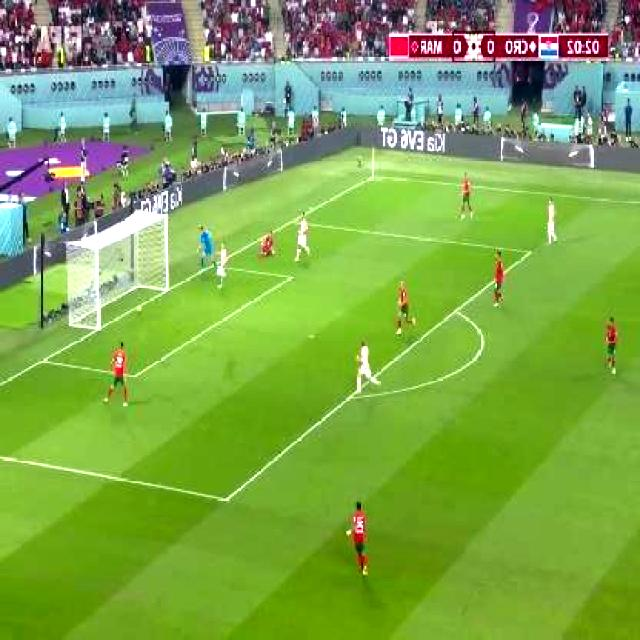bigarea_bottom_inner: (217, 483, 238, 514)
bigarea_top_inner: (523, 242, 539, 262)
bigarea_top_outter: (286, 214, 299, 229)
bottom_arc_area_intersection: (345, 386, 360, 406)
corner: (368, 169, 383, 182)
smallarea_bottom_inner: (128, 363, 143, 386)
smallarea_bottom_outter: (36, 349, 52, 371)
smallarea_top_inner: (285, 266, 300, 286)
smallarea_top_outter: (206, 258, 219, 274)
top_arc_area_intersection: (449, 300, 465, 320)
